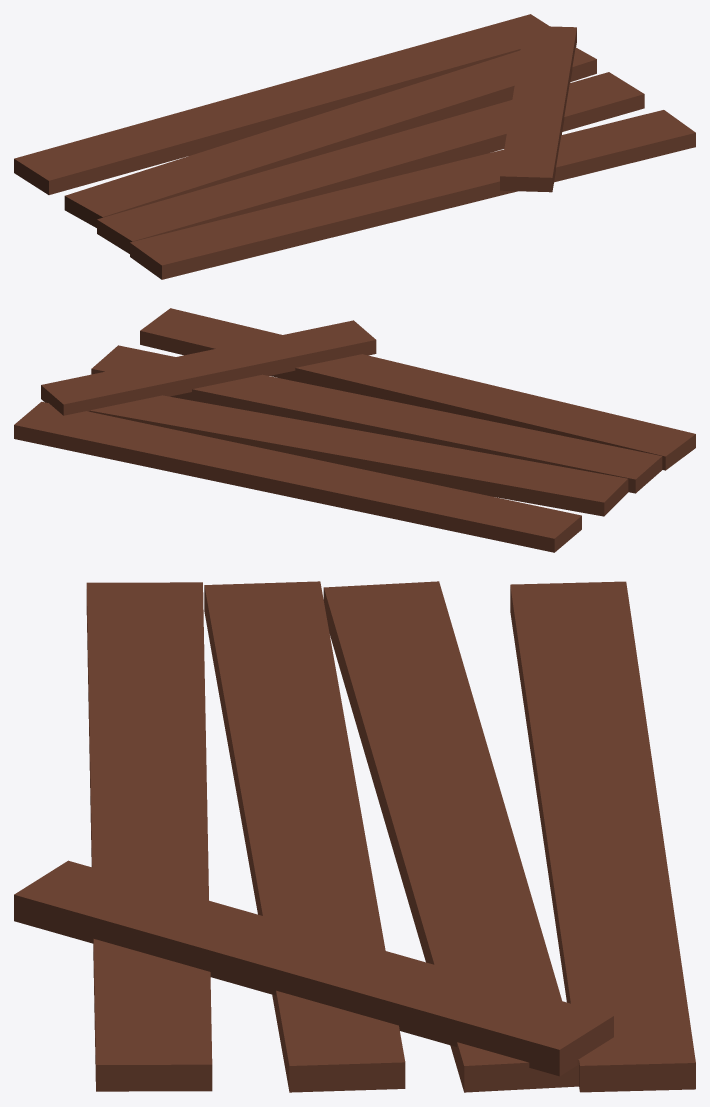
The model's file is planks.fbx.
The picture shows the model from 3 angles, top to bottom: view 1: azimuth 30°, elevation 25°; view 2: azimuth 150°, elevation 25°; view 3: azimuth 270°, elevation 25°; orthographic projection. The views are drawn at different scales.
Visible parts, largest first — view 1: Cube.002, Cube.004, Cube.001, Cube, Cube.003; view 2: Cube.004, Cube, Cube.002, Cube.001, Cube.003; view 3: Cube.004, Cube, Cube.001, Cube.002, Cube.003.
Boxes of the visible parts, <box> form: Cube.002: <box>130,110,695,279</box>; Cube.004: <box>14,14,549,194</box>; Cube.001: <box>97,72,644,253</box>; Cube: <box>64,47,596,227</box>; Cube.003: <box>500,25,576,192</box>; Cube.004: <box>14,401,581,552</box>; Cube: <box>48,395,628,516</box>; Cube.002: <box>140,308,695,470</box>; Cube.001: <box>91,345,662,493</box>; Cube.003: <box>41,320,376,415</box>; Cube.004: <box>510,581,695,1092</box>; Cube: <box>323,581,579,1092</box>; Cube.001: <box>204,581,405,1092</box>; Cube.002: <box>86,582,212,1091</box>; Cube.003: <box>14,860,613,1076</box>.
Bounding box in the file's own units: 1449 × 66.09 × 852.
